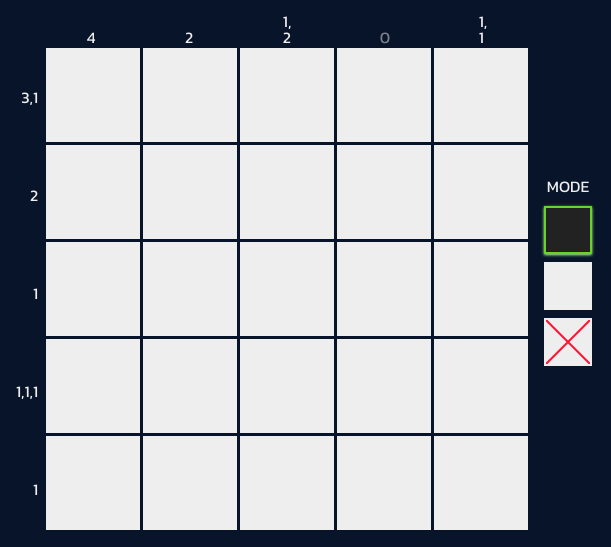
Test case: Solve tests: › General user tests: › User events on the grid tests: › It should correctly change the style of a cell where a non-default mode is selected
Click the option titled "Eliminated": (568, 342) [544,318,592,366]
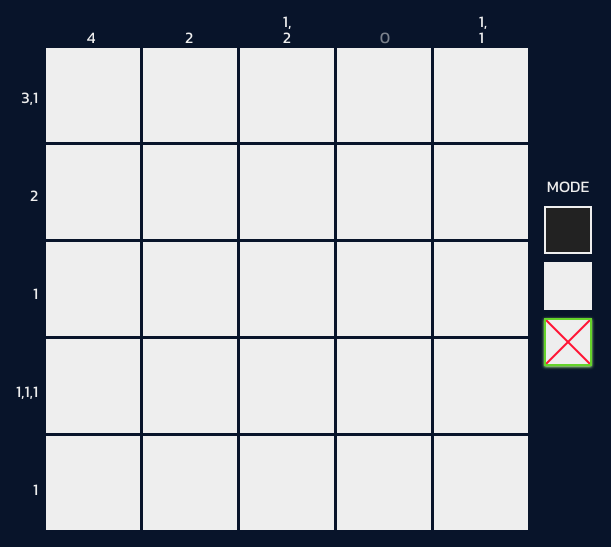
Press the mouse on the cell titled "1,1": (93, 95) [46,48,140,142]
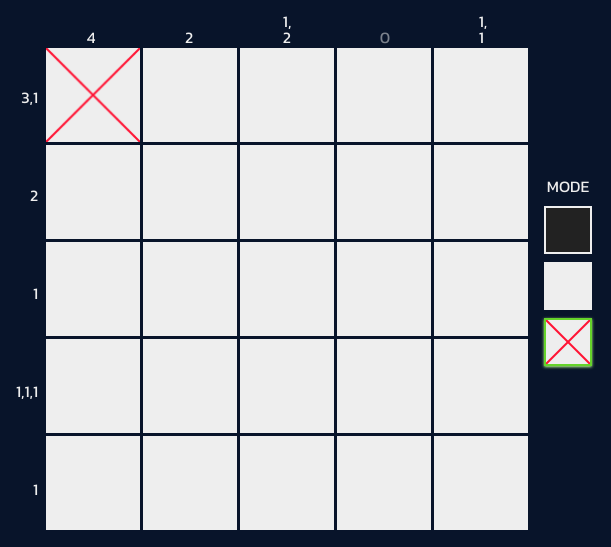
Check: the 1st drawing is shown, box [46,48,140,142]
